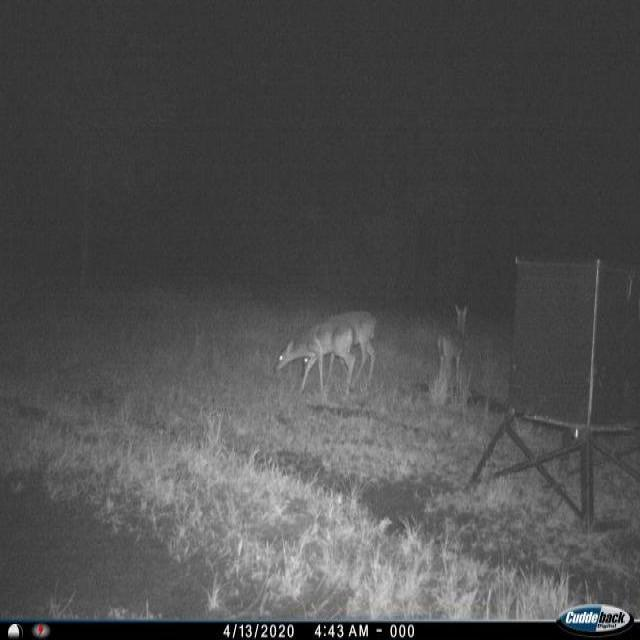deer: (270, 316, 358, 405), (431, 295, 474, 396), (356, 304, 384, 396)
